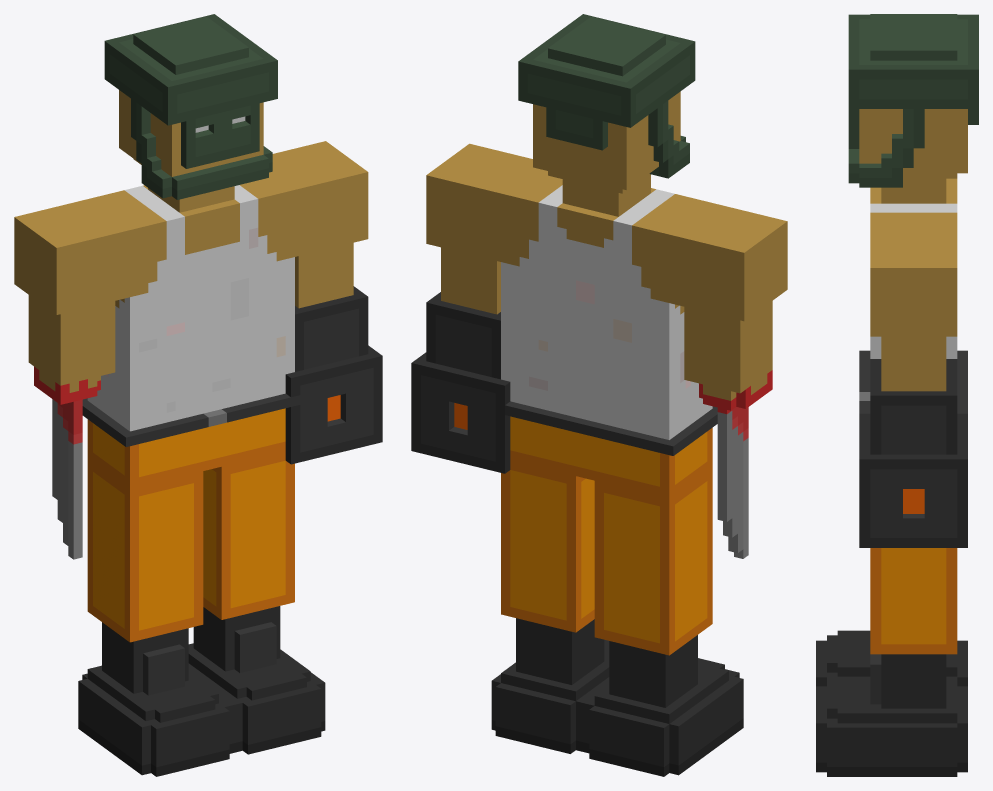
File: Kaboomer.fbx
3 views of the same model, side by side, from view 1: azimuth 30°, elevation 25°; view 2: azimuth 150°, elevation 25°; view 3: azimuth 270°, elevation 25° (orthographic). The views are drawn at different scales.
Visible parts, largest first — view 1: Kaboomer Torso, Kaboomer Foot-Right, Kaboomer Foot-Left, Kaboomer Head, Kaboomer Arm-Left, Kaboomer Arm-Right, Kaboomer Waist; view 2: Kaboomer Torso, Kaboomer Foot-Right, Kaboomer Head, Kaboomer Foot-Left, Kaboomer Arm-Left, Kaboomer Arm-Right, Kaboomer Waist; view 3: Kaboomer Arm-Left, Kaboomer Foot-Left, Kaboomer Head, Kaboomer Torso, Kaboomer Foot-Right, Kaboomer Waist.
Boxes of the visible parts, x1,y1,x2,y2 form: Kaboomer Torso: (87,172,294,431); Kaboomer Foot-Right: (78,458,233,776); Kaboomer Foot-Left: (188,451,325,754); Kaboomer Head: (104,14,277,212); Kaboomer Arm-Left: (271,141,382,464); Kaboomer Arm-Right: (14,199,129,559); Kaboomer Waist: (82,393,309,488); Kaboomer Torso: (501,168,712,439); Kaboomer Foot-Right: (585,467,743,776); Kaboomer Head: (518,14,695,216); Kaboomer Foot-Left: (491,460,609,753); Kaboomer Arm-Left: (411,143,535,473); Kaboomer Arm-Right: (669,203,787,558); Kaboomer Waist: (505,401,717,498); Kaboomer Arm-Left: (859,231,967,547); Kaboomer Foot-Left: (816,548,967,776); Kaboomer Head: (848,14,978,203); Kaboomer Torso: (870,178,957,358); Kaboomer Foot-Right: (816,630,967,686); Kaboomer Waist: (859,350,967,413).
Bounding box in the file's own units: 0.7 × 0.3 × 1.42.
Materials: 6 (6 with a texture image).
